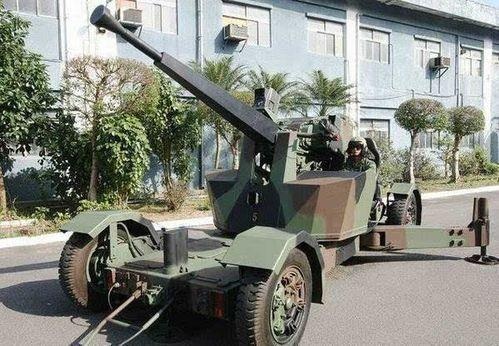MIL_SPG: (59, 6, 491, 345)
